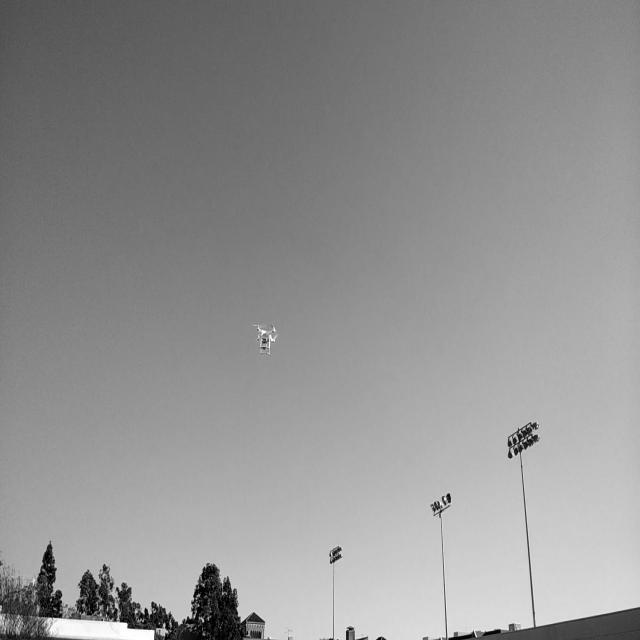drone: (252, 314, 282, 356)
